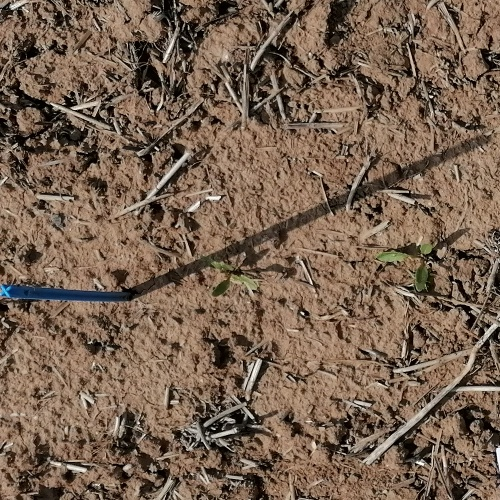beet: (376, 241, 437, 291), (208, 259, 257, 295)
